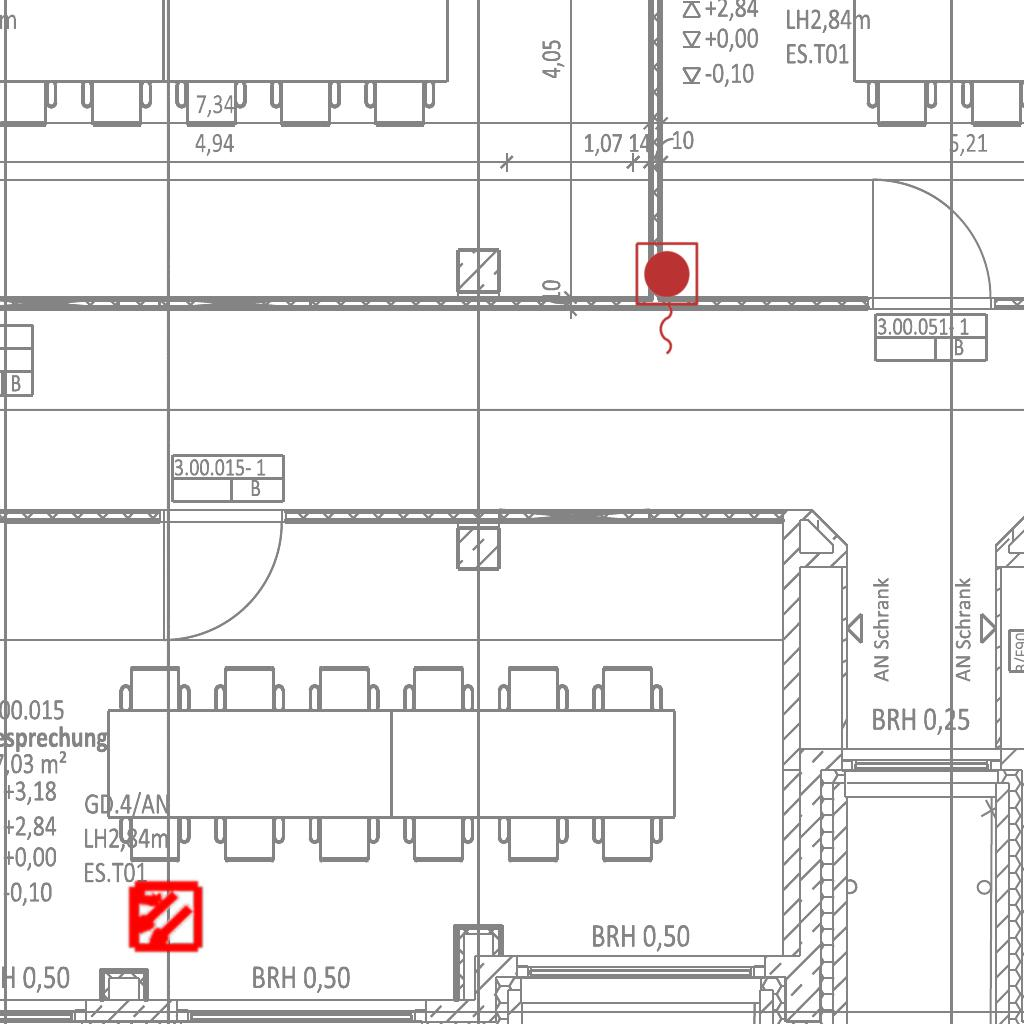OT_Multisensormelder_(Kombination_RMO_WMD): (107, 860, 220, 973)
Zugtaster: (630, 238, 702, 360)
